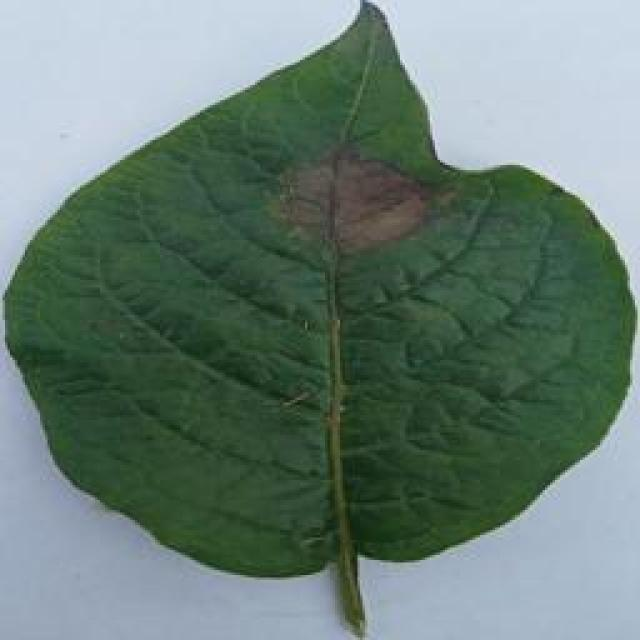Potato_Late_Blight: (7, 5, 627, 621)
